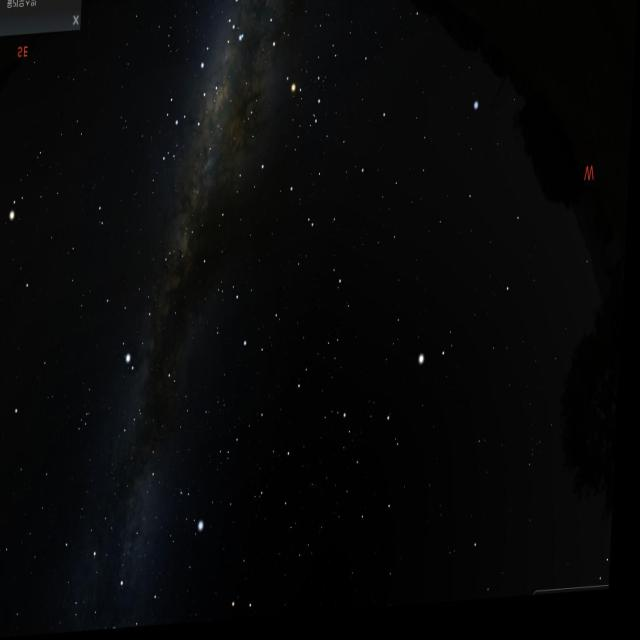aquila: (100, 234, 193, 391)
bootes: (357, 323, 465, 536)
cygnus: (77, 454, 174, 634)
lyra: (174, 484, 218, 546)
sagittarius: (149, 50, 221, 178)
scorpius: (219, 0, 341, 152)
